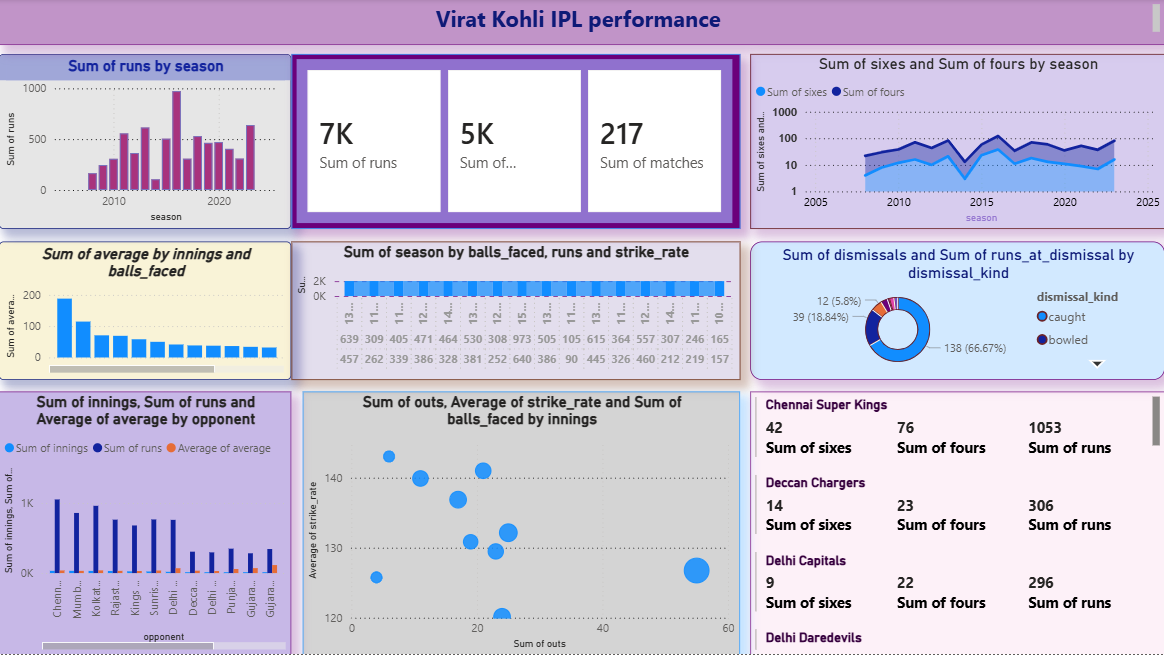

What the dashboard file says about the page in this screenshot:
{"tool":"powerbi","page":{"name":"Page 1","canvas":[1280,720],"ordinal":0},"visuals":[{"type":"clusteredColumnChart","fields":{"Category":["virat_kohli_ipl_season_summary.season"],"Y":["Sum(virat_kohli_ipl_season_summary.runs)"]},"box":[0,60.4,321.1,192.1],"z":0},{"type":"textbox","box":[0,342,321,178],"z":1000},{"type":"textbox","box":[0,0,1280.3,50.8],"z":2000},{"type":"stackedAreaChart","fields":{"Y":["Sum(virat_kohli_ipl_season_summary.sixes)","Sum(virat_kohli_ipl_season_summary.fours)"],"Category":["virat_kohli_ipl_season_summary.season"]},"box":[824.7,60.4,455.6,192.1],"z":3000},{"type":"cardVisual","fields":{"Data":["Sum(virat_kohli_ipl_season_summary.runs)","Sum(virat_kohli_ipl_season_summary.balls_faced)","Sum(virat_kohli_ipl_season_summary.matches)"]},"box":[321.1,60.4,492.6,192.1],"z":4000},{"type":"columnChart","fields":{"Y":["Sum(virat_kohli_by_opponent.average)"],"Category":["virat_kohli_by_opponent.innings","virat_kohli_by_opponent.balls_faced"]},"box":[0,266.2,321.1,152.3],"z":5000},{"type":"donutChart","fields":{"Category":["virat_kohli_dismissals.dismissal_kind"],"Y":["Sum(virat_kohli_dismissals.dismissals)","Sum(virat_kohli_dismissals.runs_at_dismissal)"]},"box":[824.7,266.2,455.6,152.3],"z":6000},{"type":"ribbonChart","fields":{"Category":["virat_kohli_ipl_season_summary.balls_faced","virat_kohli_ipl_season_summary.runs","virat_kohli_ipl_season_summary.strike_rate"],"Y":["Sum(virat_kohli_ipl_season_summary.season)"]},"box":[321.1,266.2,492.6,152.3],"z":7000},{"type":"lineClusteredColumnComboChart","fields":{"Y":["Sum(virat_kohli_by_opponent.innings)","Sum(virat_kohli_by_opponent.runs)","Avg(virat_kohli_by_opponent.average)"],"Category":["virat_kohli_by_opponent.opponent"]},"box":[0,430.9,321.1,289.5],"z":8000},{"type":"scatterChart","fields":{"Y":["Avg(virat_kohli_by_opponent.strike_rate)"],"Size":["Sum(virat_kohli_by_opponent.balls_faced)"],"Category":["virat_kohli_by_opponent.innings"],"X":["Sum(virat_kohli_by_opponent.outs)"]},"box":[333.4,430.9,480.3,289.5],"z":9000},{"type":"multiRowCard","fields":{"Values":["virat_kohli_by_opponent.opponent","Sum(virat_kohli_by_opponent.sixes)","Sum(virat_kohli_by_opponent.fours)","Sum(virat_kohli_by_opponent.runs)"]},"box":[824.7,430.9,455.6,289.5],"z":10000}]}

Visuals, with their boxes in screenshot pixels (x1, y1, x2, y2), scaled from the page's 1280x720 canvas onto the 1164x655 screenshot:
clusteredColumnChart - virat_kohli_ipl_season_summary.season x Sum(virat_kohli_ipl_season_summary.runs): [x1=0, y1=55, x2=292, y2=230]
textbox: [x1=0, y1=311, x2=292, y2=473]
textbox: [x1=0, y1=0, x2=1163, y2=46]
stackedAreaChart - Sum(virat_kohli_ipl_season_summary.sixes) x Sum(virat_kohli_ipl_season_summary.fours): [x1=750, y1=55, x2=1163, y2=230]
cardVisual - Sum(virat_kohli_ipl_season_summary.runs) x Sum(virat_kohli_ipl_season_summary.balls_faced): [x1=292, y1=55, x2=740, y2=230]
columnChart - Sum(virat_kohli_by_opponent.average) x virat_kohli_by_opponent.innings: [x1=0, y1=242, x2=292, y2=381]
donutChart - virat_kohli_dismissals.dismissal_kind x Sum(virat_kohli_dismissals.dismissals): [x1=750, y1=242, x2=1163, y2=381]
ribbonChart - virat_kohli_ipl_season_summary.balls_faced x virat_kohli_ipl_season_summary.runs: [x1=292, y1=242, x2=740, y2=381]
lineClusteredColumnComboChart - Sum(virat_kohli_by_opponent.innings) x Sum(virat_kohli_by_opponent.runs): [x1=0, y1=392, x2=292, y2=654]
scatterChart - Avg(virat_kohli_by_opponent.strike_rate) x Sum(virat_kohli_by_opponent.balls_faced): [x1=303, y1=392, x2=740, y2=654]
multiRowCard - virat_kohli_by_opponent.opponent x Sum(virat_kohli_by_opponent.sixes): [x1=750, y1=392, x2=1163, y2=654]
